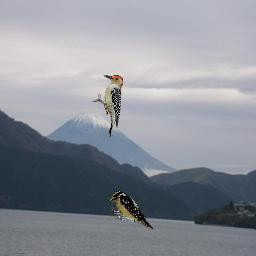Woodpecker: (92, 75, 123, 137), (109, 189, 153, 230)
